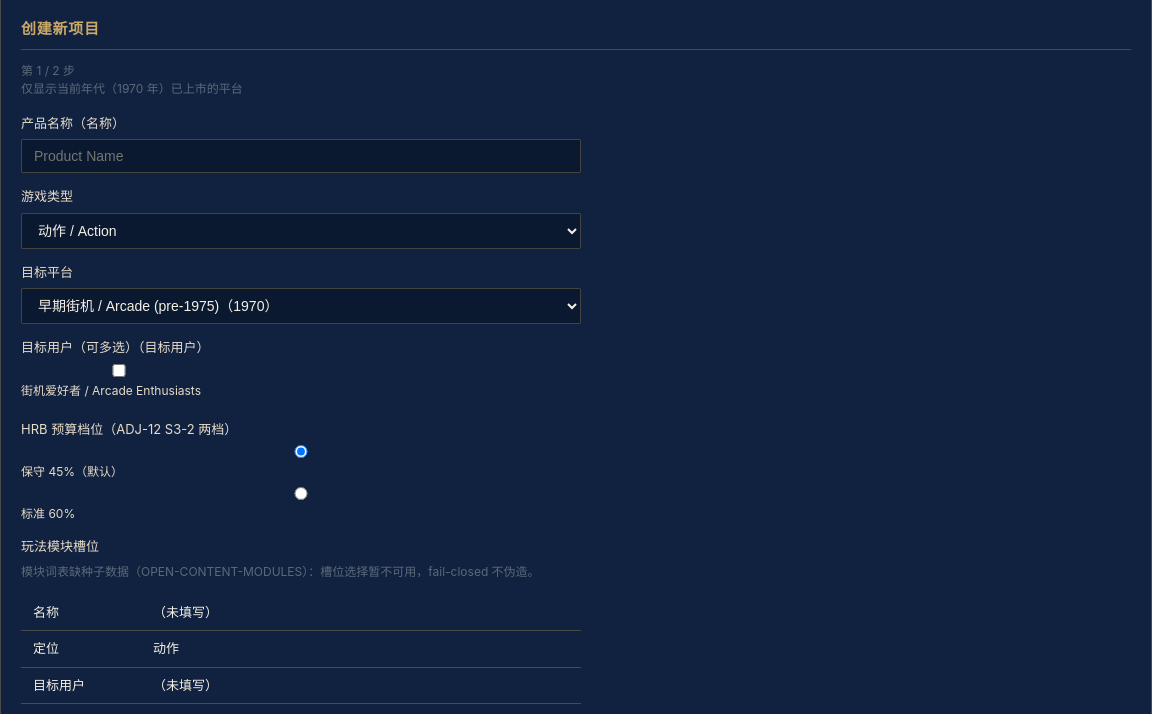
it: P-03/P-04 立项两步向导 › A-9：团队 0 场景 DOM 无 Infinity，显示"暂不可估"；A-10 无优先级列
Check: the text with test id "wizard-step" shows "1", box [21,62,75,78]
Type "Star Quest" into the field with test id "product-name" at (301, 156), box [21,139,581,173]
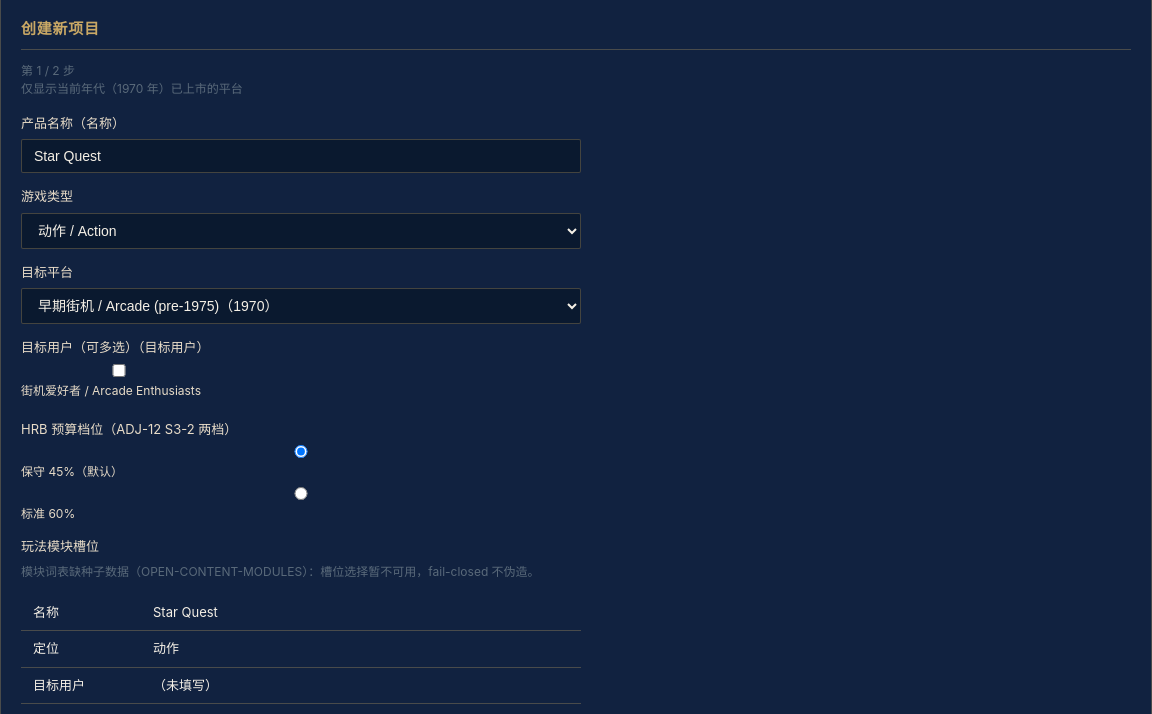
Click the checkbox labelled "街机爱好者 / Arcade Enthusiasts" at (119, 370), box [21,364,217,376]
(page scrolled)
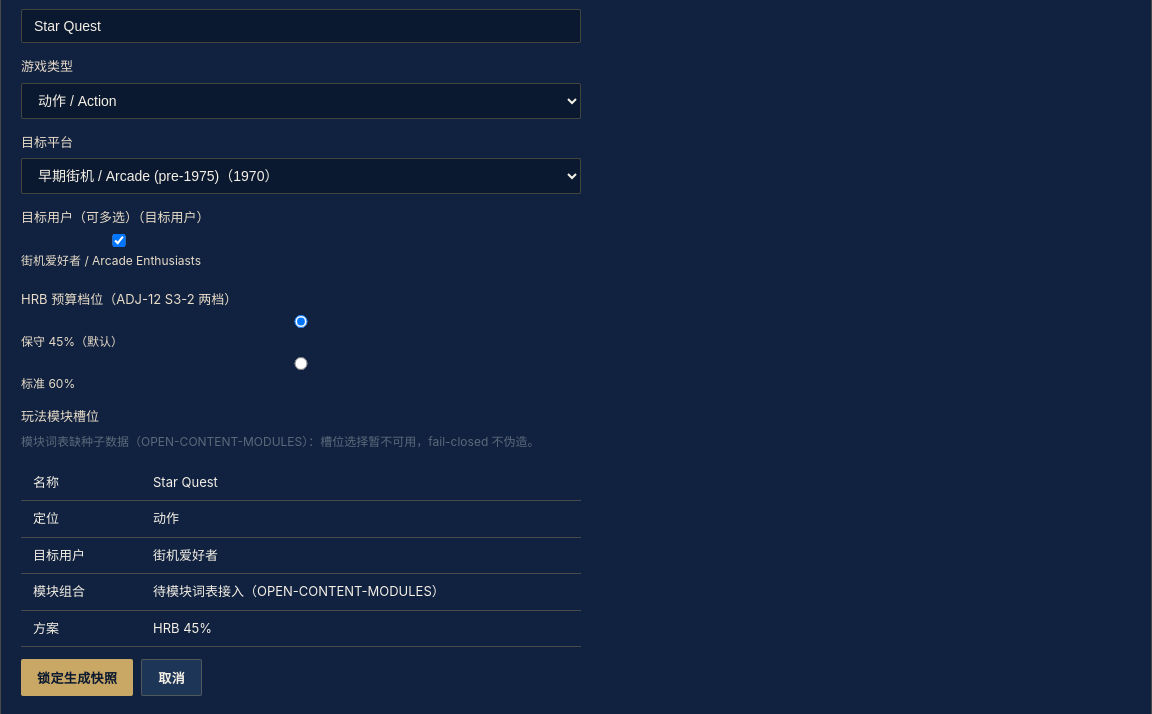
Click the button with test id "lock-snapshot" at (77, 678), box [21,659,133,696]
(page scrolled)
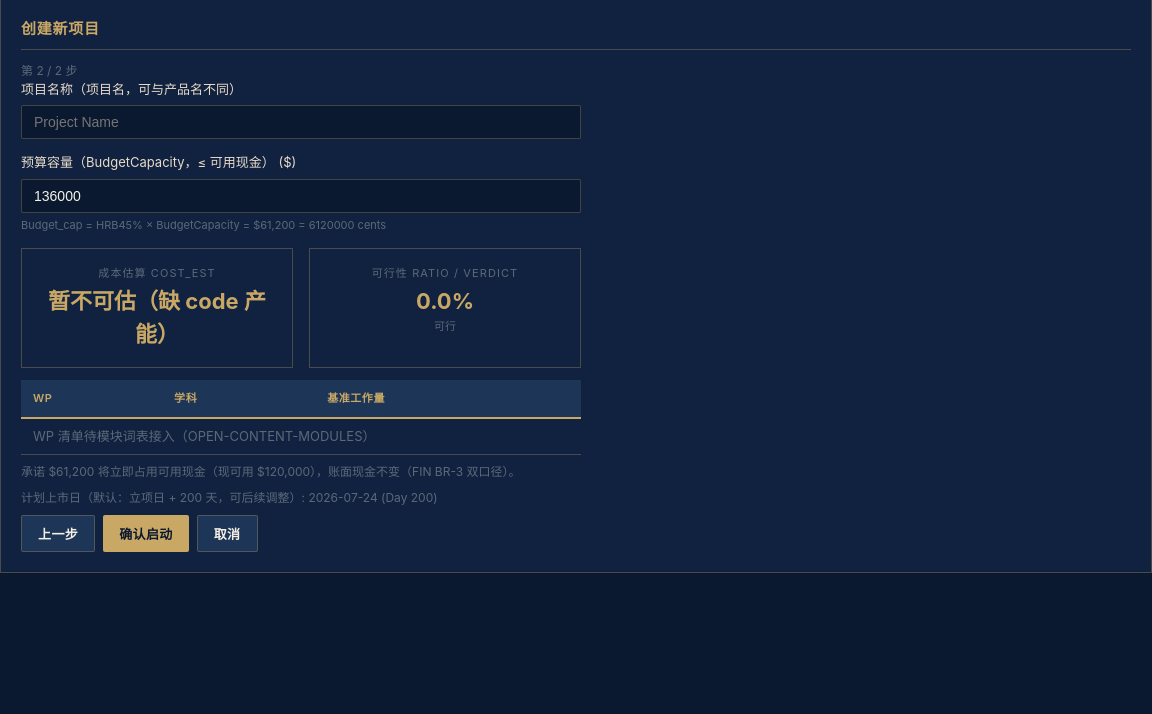
Check: the text with test id "wizard-step" shows "2", box [21,62,78,78]
Check: the element with test id "cost-est" shows "暂不可估", box [48,288,266,347]
